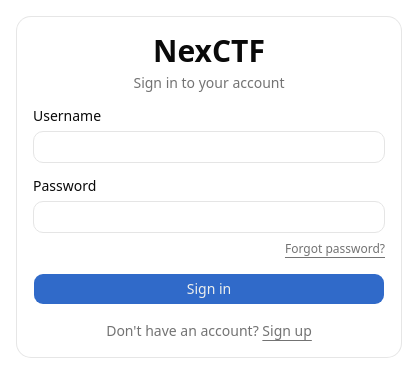
Scenario: shows the TOTP step when the backend asks for a code
Type "alice" into the field labelled "Username" at (209, 147), box [33,131,385,163]
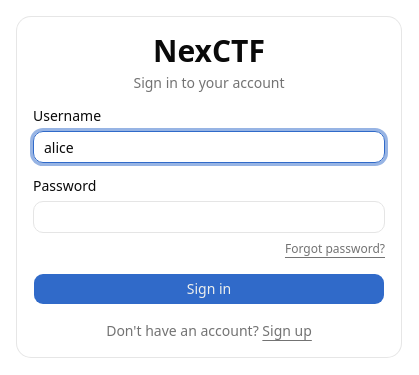
Type "hunter2" into the password field labelled "Password" at (209, 217), box [33,201,385,233]
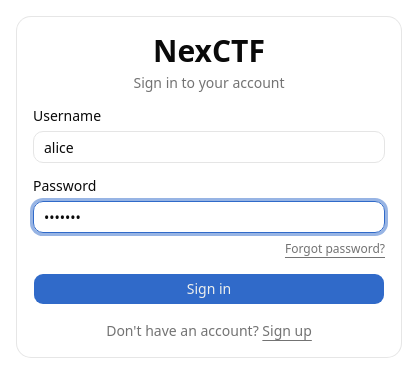
Click the button "Sign in" at (209, 289), box [33,273,385,305]
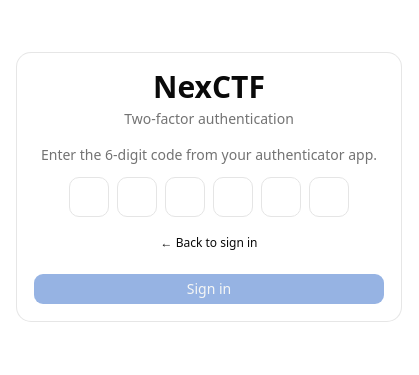
Now the text "Two-factor authentication" is shown, box [124,109,294,128]
Now the label labelled "Password" is gone
Now the button "Sign in" is disabled, box [33,273,385,305]
